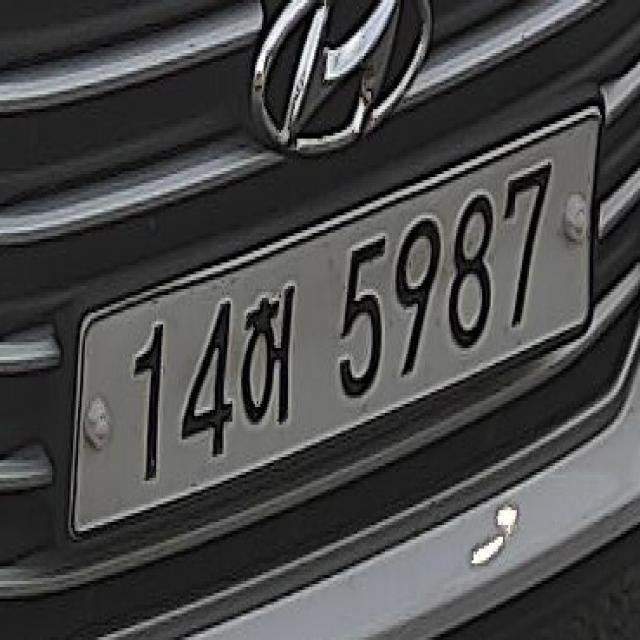plat: (61, 87, 605, 541)
